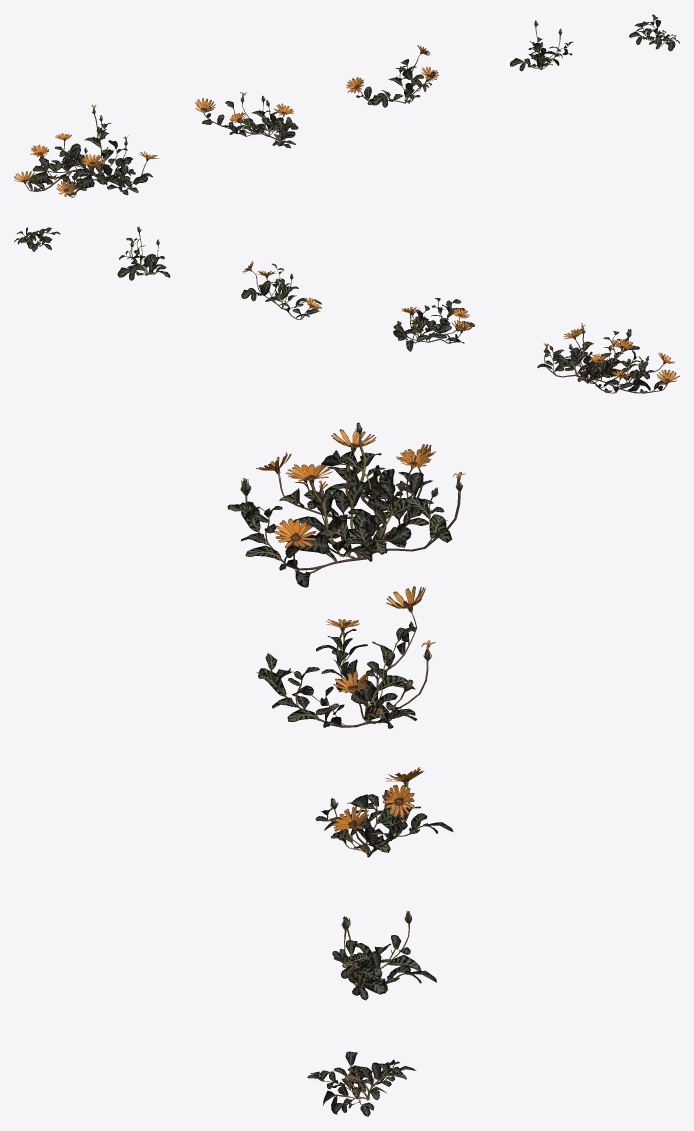
Rendered from fl_white.glb.
3 renders of one model, top to bottom at view 1: azimuth 30°, elevation 25°; view 2: azimuth 150°, elevation 25°; view 3: azimuth 270°, elevation 25°, orthographic. The views are drawn at different scales.
Parts seen in each view (by area): view 1: flower_ursinia_a_LOD0, flower_ursinia_b_LOD0, flower_ursinia_c_LOD0, flower_ursinia_d_LOD0, flower_ursinia_e_LOD0; view 2: flower_ursinia_a_LOD0, flower_ursinia_b_LOD0, flower_ursinia_c_LOD0, flower_ursinia_d_LOD0, flower_ursinia_e_LOD0; view 3: flower_ursinia_a_LOD0, flower_ursinia_b_LOD0, flower_ursinia_c_LOD0, flower_ursinia_d_LOD0, flower_ursinia_e_LOD0.
Part boxes in pixels (bbox=[...]): flower_ursinia_a_LOD0: bbox=[14, 104, 159, 197]; flower_ursinia_b_LOD0: bbox=[195, 92, 298, 148]; flower_ursinia_c_LOD0: bbox=[346, 45, 438, 107]; flower_ursinia_d_LOD0: bbox=[510, 20, 573, 71]; flower_ursinia_e_LOD0: bbox=[629, 14, 679, 51]; flower_ursinia_a_LOD0: bbox=[537, 323, 679, 393]; flower_ursinia_b_LOD0: bbox=[393, 298, 474, 351]; flower_ursinia_c_LOD0: bbox=[241, 261, 321, 319]; flower_ursinia_d_LOD0: bbox=[117, 226, 170, 280]; flower_ursinia_e_LOD0: bbox=[14, 227, 60, 251]; flower_ursinia_a_LOD0: bbox=[227, 422, 465, 587]; flower_ursinia_b_LOD0: bbox=[256, 586, 435, 728]; flower_ursinia_c_LOD0: bbox=[315, 767, 453, 857]; flower_ursinia_d_LOD0: bbox=[332, 911, 436, 1000]; flower_ursinia_e_LOD0: bbox=[307, 1051, 416, 1116].
Size of the model in its own units: 2.19 by 0.1718 by 0.3433.
Materials: 1 (1 with a texture image).
